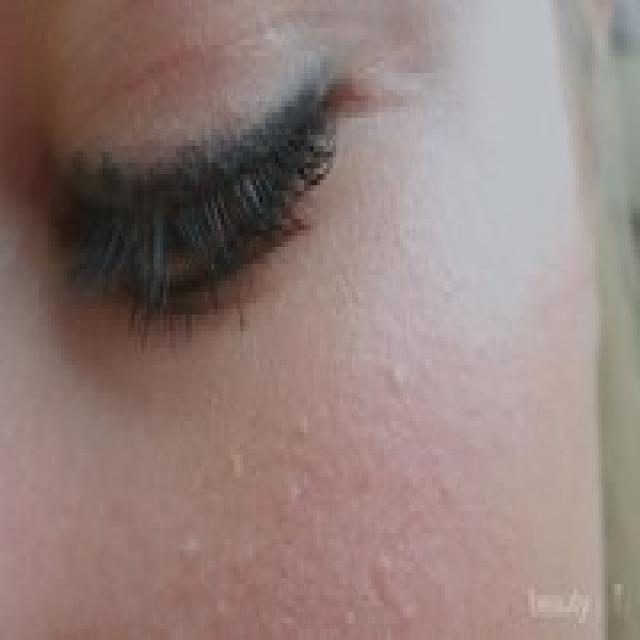Acne: (171, 395, 425, 632)
